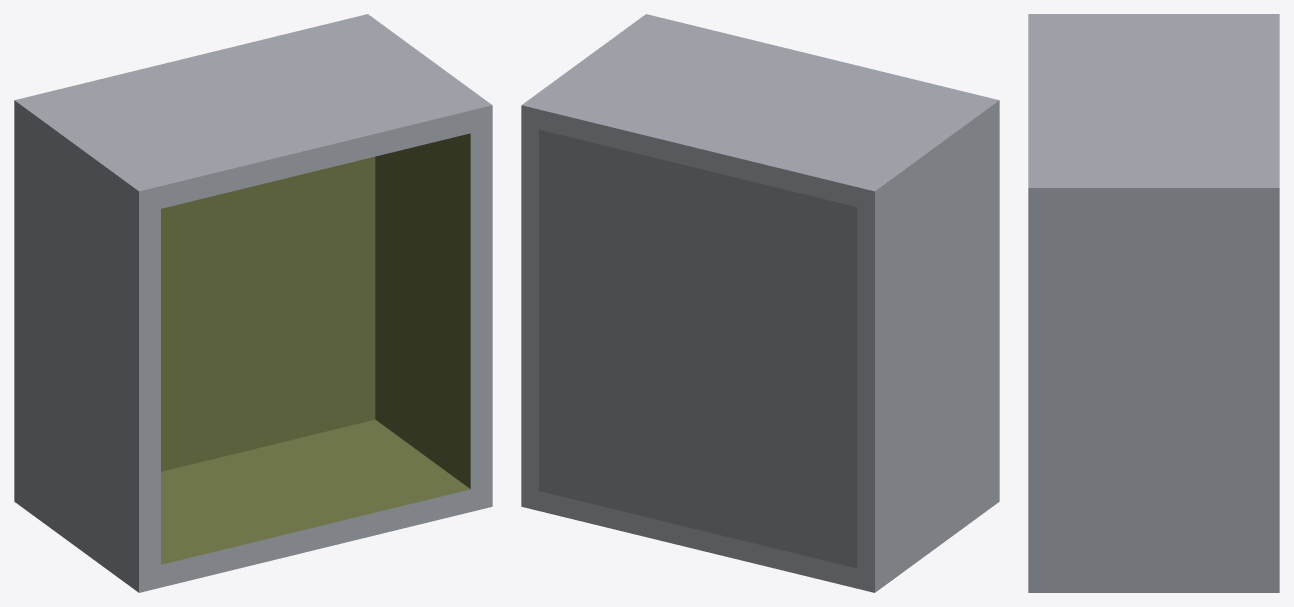
File: SM_Prop_Clothes_Display_Box_Green_01.obj
3 renders of one model, left to right at view 1: azimuth 30°, elevation 25°; view 2: azimuth 150°, elevation 25°; view 3: azimuth 270°, elevation 25°, orthographic.
Parts seen in each view (by area): view 1: SM_Prop_Clothes_Display_Box_Green_01_0; view 2: SM_Prop_Clothes_Display_Box_Green_01_0; view 3: SM_Prop_Clothes_Display_Box_Green_01_0.
Part boxes in pixels (x1=…): SM_Prop_Clothes_Display_Box_Green_01_0: x1=14, y1=14, x2=492, y2=592; SM_Prop_Clothes_Display_Box_Green_01_0: x1=521, y1=14, x2=999, y2=592; SM_Prop_Clothes_Display_Box_Green_01_0: x1=1028, y1=14, x2=1279, y2=592.
Bounding box in the file's own units: 0.5009 × 0.5438 × 0.306.
Materials: 1 (1 with a texture image).
